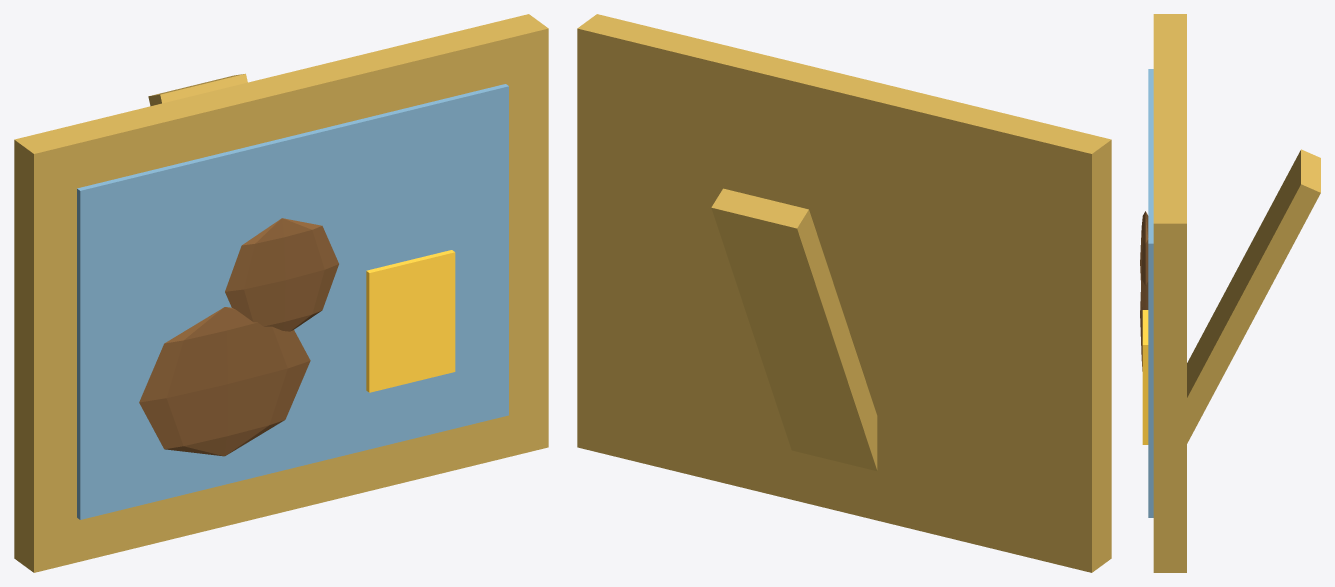
Rendered from contest_photo.glb.
The picture shows the model from 3 angles, left to right: view 1: azimuth 30°, elevation 25°; view 2: azimuth 150°, elevation 25°; view 3: azimuth 270°, elevation 25°; orthographic projection. The views are drawn at different scales.
Parts seen in each view (by area): view 1: picture_photo_sky, frame_photo_frame, picture, picture_gold, foot_photo_frame; view 2: frame_photo_frame, foot_photo_frame; view 3: frame_photo_frame, foot_photo_frame, picture_photo_sky, picture, picture_gold.
Boxes of the visible parts, bbox=[...] form: picture_photo_sky: bbox=[77, 84, 508, 519]; frame_photo_frame: bbox=[14, 14, 548, 572]; picture: bbox=[139, 218, 338, 456]; picture_gold: bbox=[366, 250, 455, 392]; foot_photo_frame: bbox=[148, 73, 247, 106]; frame_photo_frame: bbox=[577, 14, 1111, 572]; foot_photo_frame: bbox=[711, 188, 877, 470]; frame_photo_frame: bbox=[1153, 14, 1186, 572]; foot_photo_frame: bbox=[1187, 149, 1320, 443]; picture_photo_sky: bbox=[1148, 69, 1153, 517]; picture: bbox=[1140, 211, 1148, 371]; picture_gold: bbox=[1142, 310, 1148, 444].
Bounding box in the file's own units: 0.18 × 0.14 × 0.0657.
